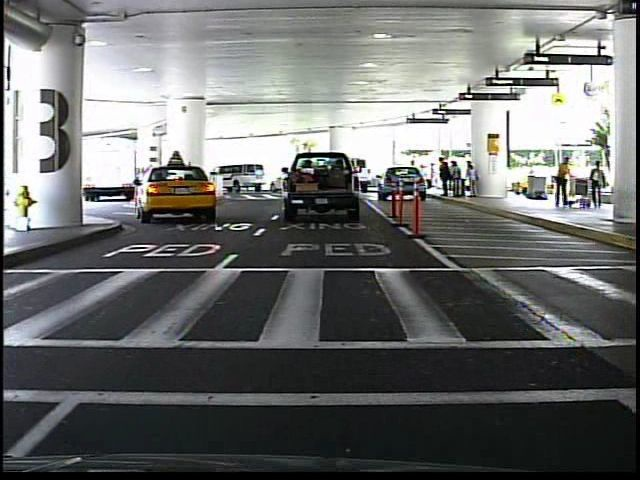person: (552, 154, 576, 212), (589, 158, 609, 212), (406, 158, 421, 193)
